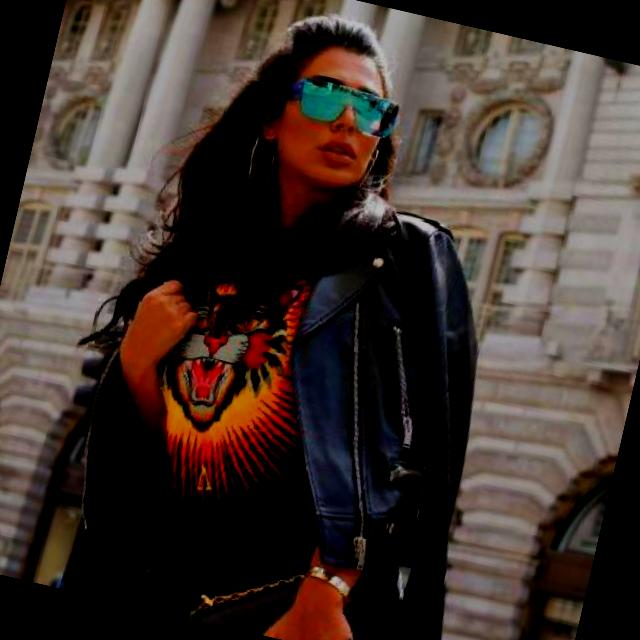Person: (55, 0, 514, 640)
